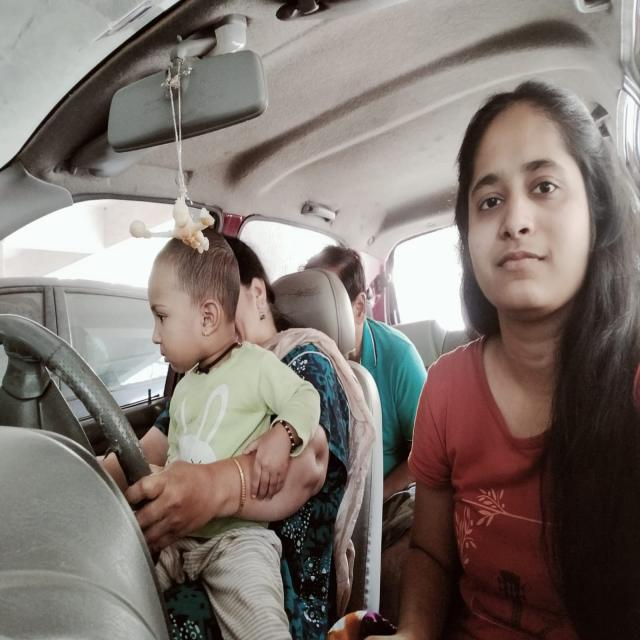child: (150, 226, 242, 372)
person: (458, 76, 626, 370), (218, 231, 282, 357), (305, 238, 376, 340)
